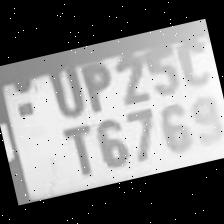2: (107, 46, 152, 106)
5: (138, 40, 181, 96)
6: (150, 96, 196, 158), (88, 113, 132, 172)
7: (119, 101, 162, 165)
9: (182, 85, 224, 149)
C: (166, 29, 218, 90)
P: (73, 49, 119, 114)
T: (53, 118, 100, 182)
U: (38, 49, 88, 120)
